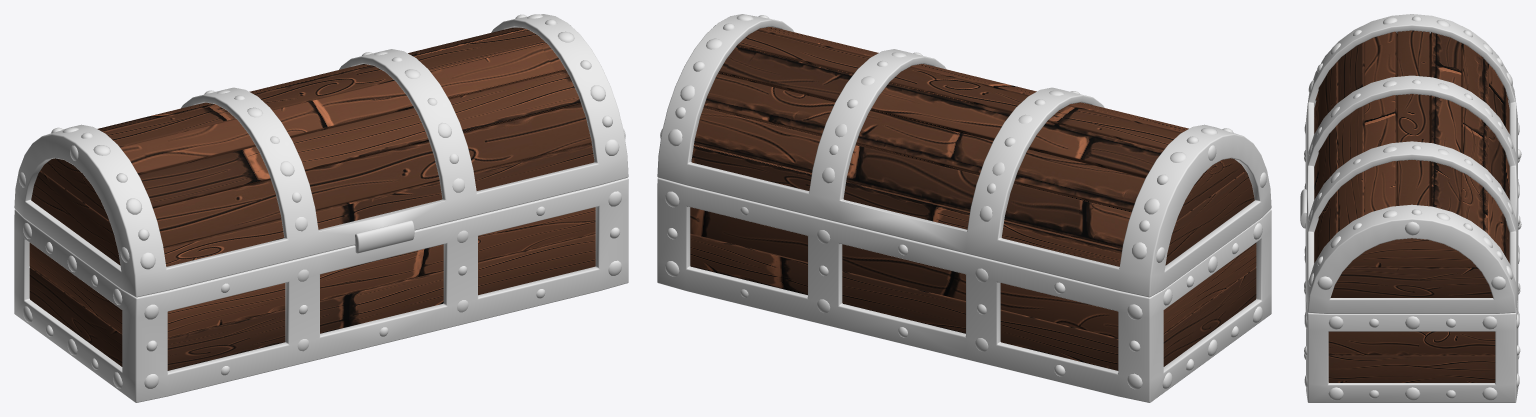
The model's file is cofreeeee.fbx.
The picture shows the model from 3 angles, left to right: view 1: azimuth 30°, elevation 25°; view 2: azimuth 150°, elevation 25°; view 3: azimuth 270°, elevation 25°; orthographic projection. The views are drawn at different scales.
Visible parts, largest first — view 1: Cilindro, Cubo.005, Cubo.006, Cubo, Cubo.007, Cubo.001, Cubo.004, Cubo.008, Cubo.017, Cubo.021, Cubo.016, Cubo.009 (+2 smaller); view 2: Cilindro, Cubo.011, Cubo.010, Cubo.002, Cubo.009, Cubo.003, Cubo.008, Cubo.012, Cubo.017, Cubo.021, Cubo.007, Cubo.016 (+1 smaller); view 3: Cilindro, Cubo.015, Cubo.007, Cubo.019, Cubo.008, Cubo.009, Cubo.013, Cubo.006, Cubo.010, Cubo.018, Cubo.005, Cubo.011 (+3 smaller).
Part boxes in pixels (<box>): Cilindro: <box>14,14,628,402</box>; Cubo.005: <box>153,104,591,247</box>; Cubo.006: <box>138,71,580,208</box>; Cubo: <box>167,234,595,370</box>; Cubo.007: <box>120,43,566,174</box>; Cubo.001: <box>167,207,595,337</box>; Cubo.004: <box>163,143,594,266</box>; Cubo.008: <box>104,29,546,147</box>; Cubo.017: <box>29,267,122,366</box>; Cubo.021: <box>31,171,120,265</box>; Cubo.016: <box>29,243,122,333</box>; Cubo.009: <box>97,27,526,132</box>; Cilindro: <box>657,14,1271,402</box>; Cubo.011: <box>694,108,1131,248</box>; Cubo.010: <box>703,73,1145,212</box>; Cubo.002: <box>690,234,1118,370</box>; Cubo.009: <box>718,46,1163,177</box>; Cubo.003: <box>690,207,1118,337</box>; Cubo.008: <box>737,30,1180,150</box>; Cubo.012: <box>691,144,1122,266</box>; Cubo.017: <box>1163,267,1256,366</box>; Cubo.021: <box>1165,171,1254,265</box>; Cubo.007: <box>757,27,1188,133</box>; Cubo.016: <box>1163,243,1256,333</box>; Cilindro: <box>1305,14,1518,402</box>; Cubo.015: <box>1328,355,1495,382</box>; Cubo.007: <box>1364,31,1397,214</box>; Cubo.019: <box>1330,267,1493,297</box>; Cubo.008: <box>1397,30,1429,206</box>; Cubo.009: <box>1429,32,1461,215</box>; Cubo.013: <box>1328,331,1495,355</box>; Cubo.006: <box>1338,42,1364,231</box>; Cubo.010: <box>1461,43,1487,232</box>; Cubo.018: <box>1347,238,1476,267</box>; Cubo.005: <box>1318,61,1338,255</box>; Cubo.011: <box>1487,63,1505,256</box>.
Size of the model in its own units: 498 by 208 by 222.
